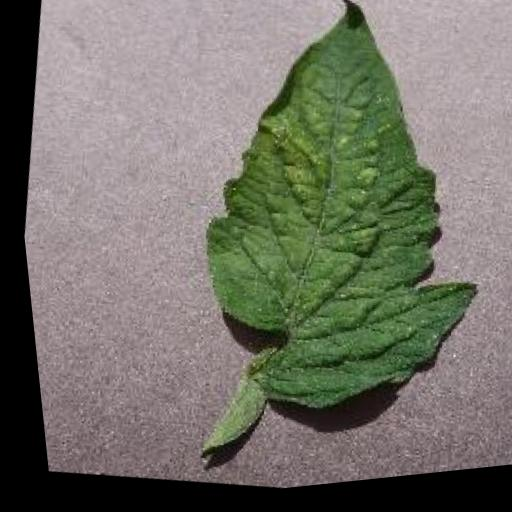Spider Mites: (151, 0, 512, 451)
